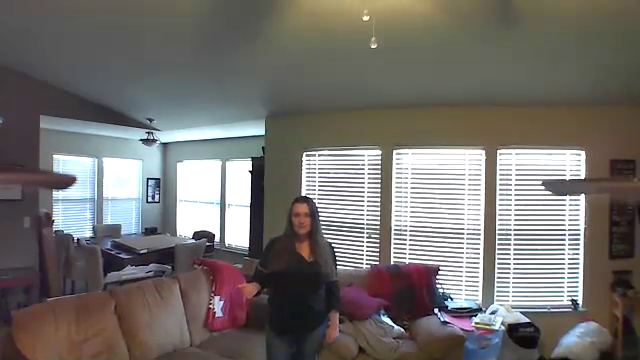land: (232, 279, 263, 301)
